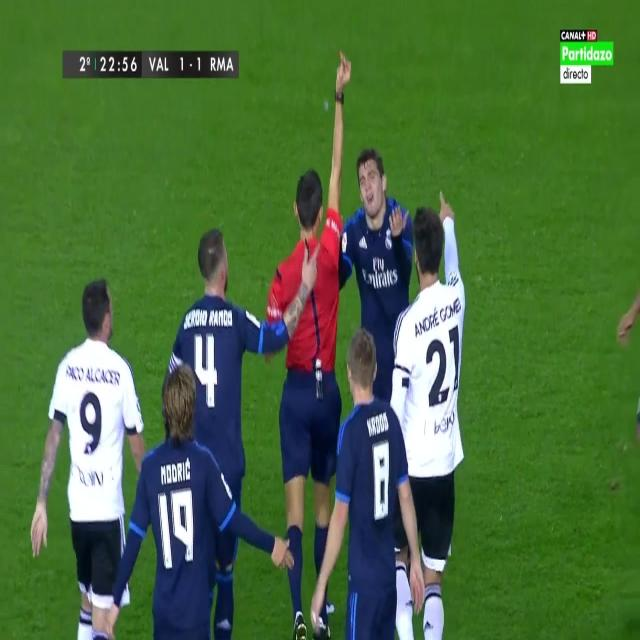Player: (127, 362, 295, 640), (28, 270, 147, 640), (178, 224, 323, 483), (393, 200, 467, 640), (319, 330, 423, 640), (342, 136, 412, 392)
Referee: (264, 39, 349, 640)
